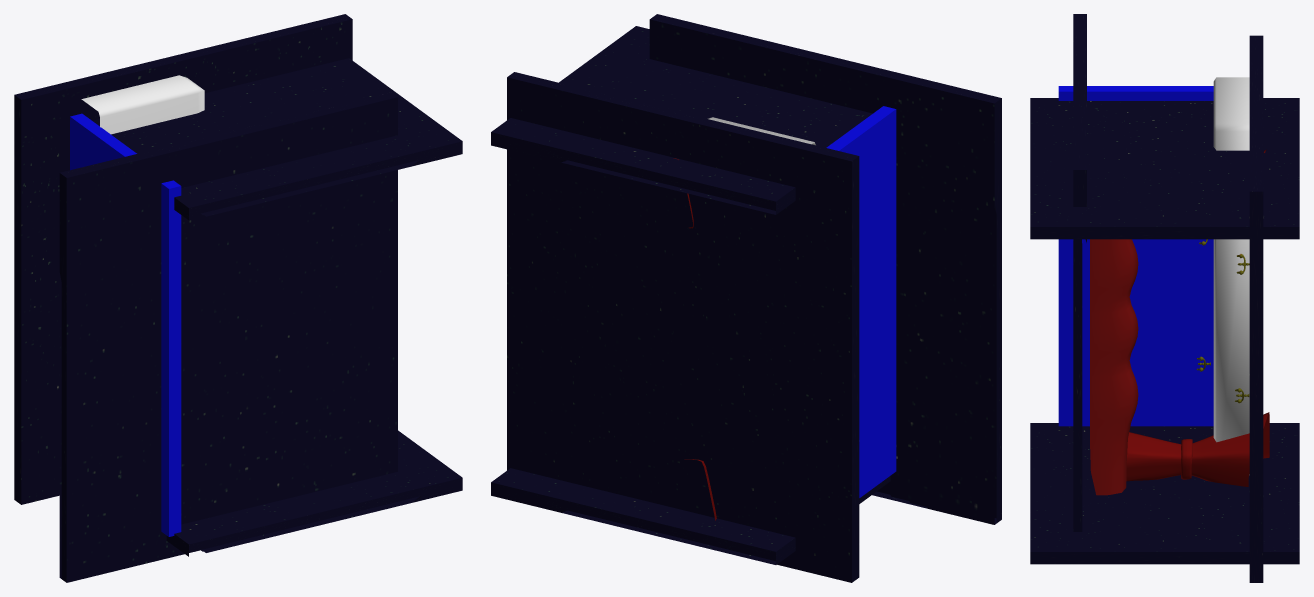
Rendered from pEQUENO TEATRO.fbx.
The picture shows the model from 3 angles, left to right: view 1: azimuth 30°, elevation 25°; view 2: azimuth 150°, elevation 25°; view 3: azimuth 270°, elevation 25°; orthographic projection. The views are drawn at different scales.
Parts seen in each view (by area): view 1: Cube.004, Cube.003, Cube.001, Cube, Cube.002, Palco; view 2: Cube.003, Cube.004, Cube.001, Cube.002, Cube; view 3: Cube.001, Cube, Cube.002, CortinaTeto, Palco, Cube.003, Cube.004.
Boxes of the visible parts, box(x1,y1,x2,y2) form: Cube.004: box(59, 92, 397, 582); Cube.003: box(14, 14, 352, 504); Cube.001: box(92, 58, 462, 219); Cube: box(166, 430, 462, 556); Cube.002: box(70, 113, 181, 536); Palco: box(81, 75, 204, 134); Cube.003: box(507, 72, 859, 582); Cube.004: box(649, 14, 1001, 524); Cube.001: box(491, 26, 872, 214); Cube.002: box(826, 106, 896, 497); Cube: box(491, 468, 890, 564); Cube.001: box(1030, 98, 1299, 239); Cube: box(1030, 423, 1299, 564); Cube.002: box(1058, 86, 1213, 426); CortinaTeto: box(1090, 149, 1269, 495); Palco: box(1213, 77, 1249, 475); Cube.003: box(1249, 35, 1263, 582); Cube.004: box(1073, 14, 1086, 531).
Bounding box in the file's own units: 2220 × 2310 × 1421.
6 materials, 2 textured.
